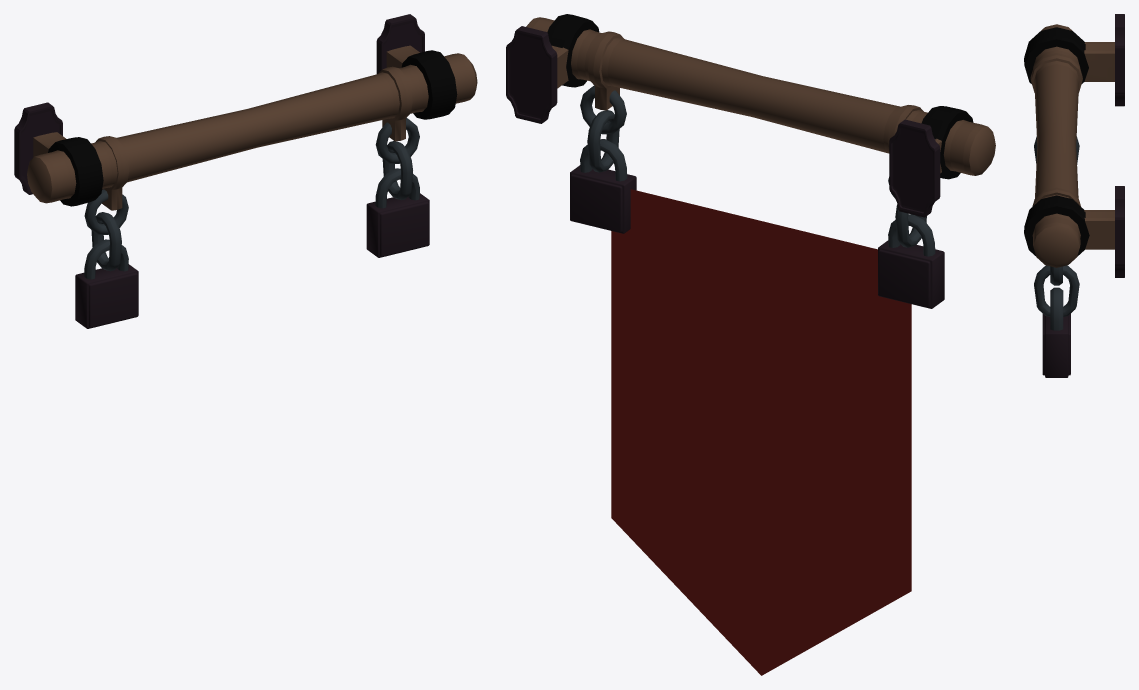
Rendered from Flag2.fbx.
The picture shows the model from 3 angles, left to right: view 1: azimuth 30°, elevation 25°; view 2: azimuth 150°, elevation 25°; view 3: azimuth 270°, elevation 25°; orthographic projection. The views are drawn at different scales.
Visible parts, largest first — view 1: Flag2; view 2: Flag2; view 3: Flag2.
Boxes of the visible parts, <box> form: Flag2: <box>14,14,477,328</box>; Flag2: <box>506,14,995,675</box>; Flag2: <box>1024,14,1124,377</box>.
Bounding box in the file's own units: 1.68 × 2.19 × 0.3502.
